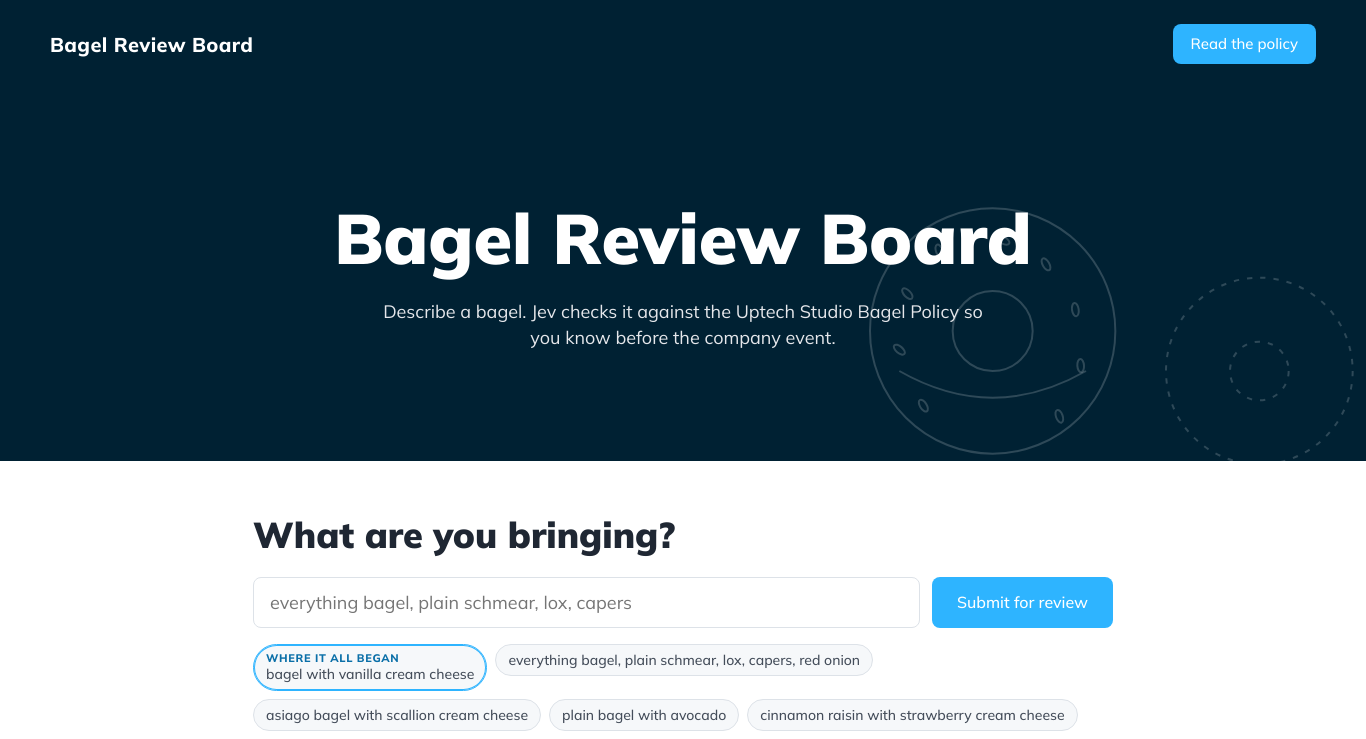
it: showing the ruling › scrolls the ruling into view when an order is submitted
The image size is (1366, 739).
What coordinates should you click on to do the following:
click the button "plain bagel with avocado"
I would click on:
 (644, 715)
Its box is [549,698,739,731].
(page scrolled)
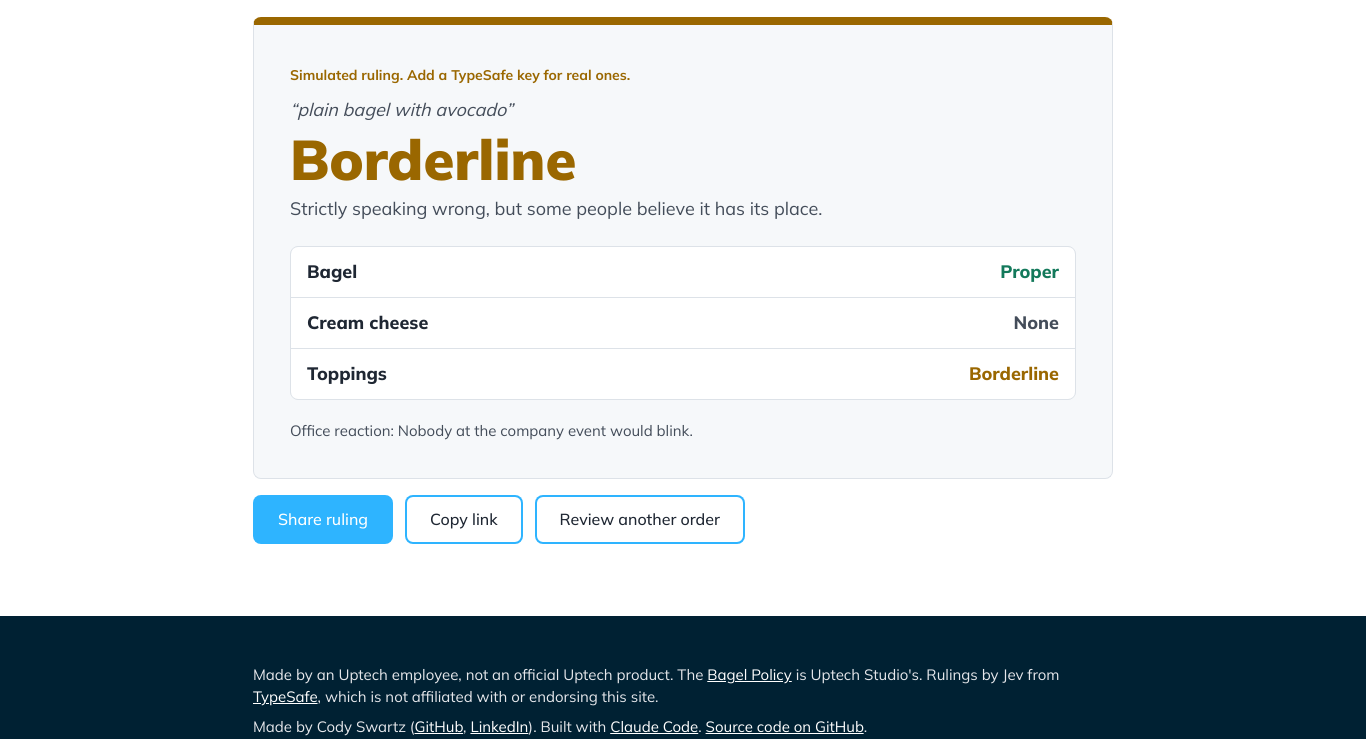
Expected: the heading "Borderline" is shown, [290,124,576,194]
